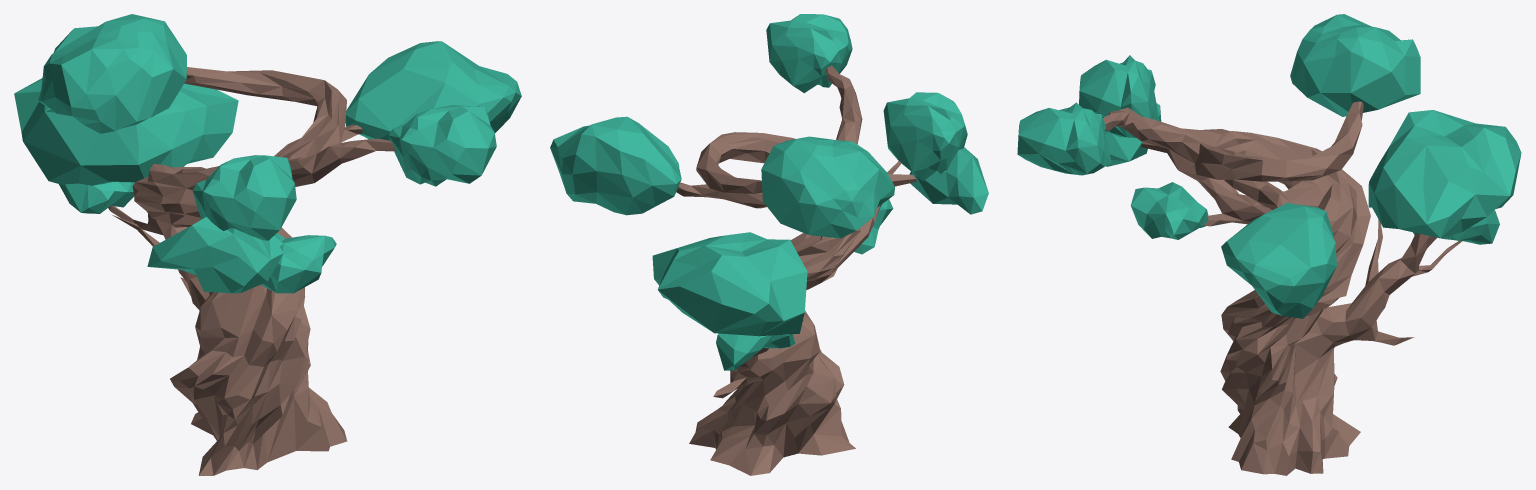
Rendered from fantasy_plant_043.fbx.
The picture shows the model from 3 angles, left to right: view 1: azimuth 30°, elevation 25°; view 2: azimuth 150°, elevation 25°; view 3: azimuth 270°, elevation 25°; orthographic projection. The views are drawn at different scales.
Visible parts, largest first — view 1: fantasy_plant.043; view 2: fantasy_plant.043; view 3: fantasy_plant.043.
Boxes of the visible parts, box(x1,y1,x2,y2) form: fantasy_plant.043: box(14, 14, 521, 475); fantasy_plant.043: box(550, 14, 988, 475); fantasy_plant.043: box(1017, 14, 1521, 475).
Size of the model in its own units: 1575 by 1406 by 1729.
Materials: 1 (1 with a texture image).
